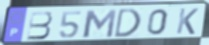0: (146, 8, 170, 37)
5: (58, 10, 83, 39)
B: (26, 11, 54, 41)
D: (113, 7, 143, 39)
K: (175, 7, 201, 35)
M: (82, 8, 119, 39)
